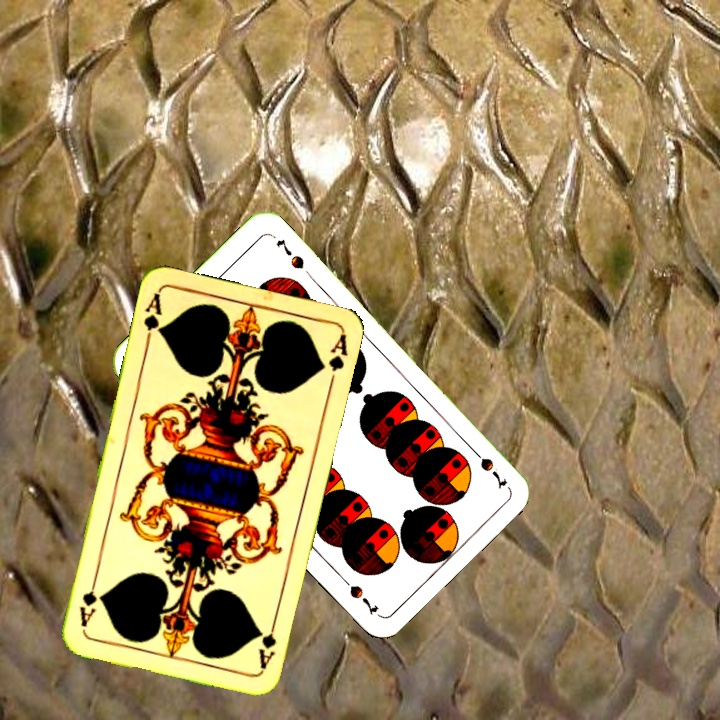GA: (139, 289, 166, 348), (254, 614, 279, 672)
S7: (465, 442, 510, 491)
